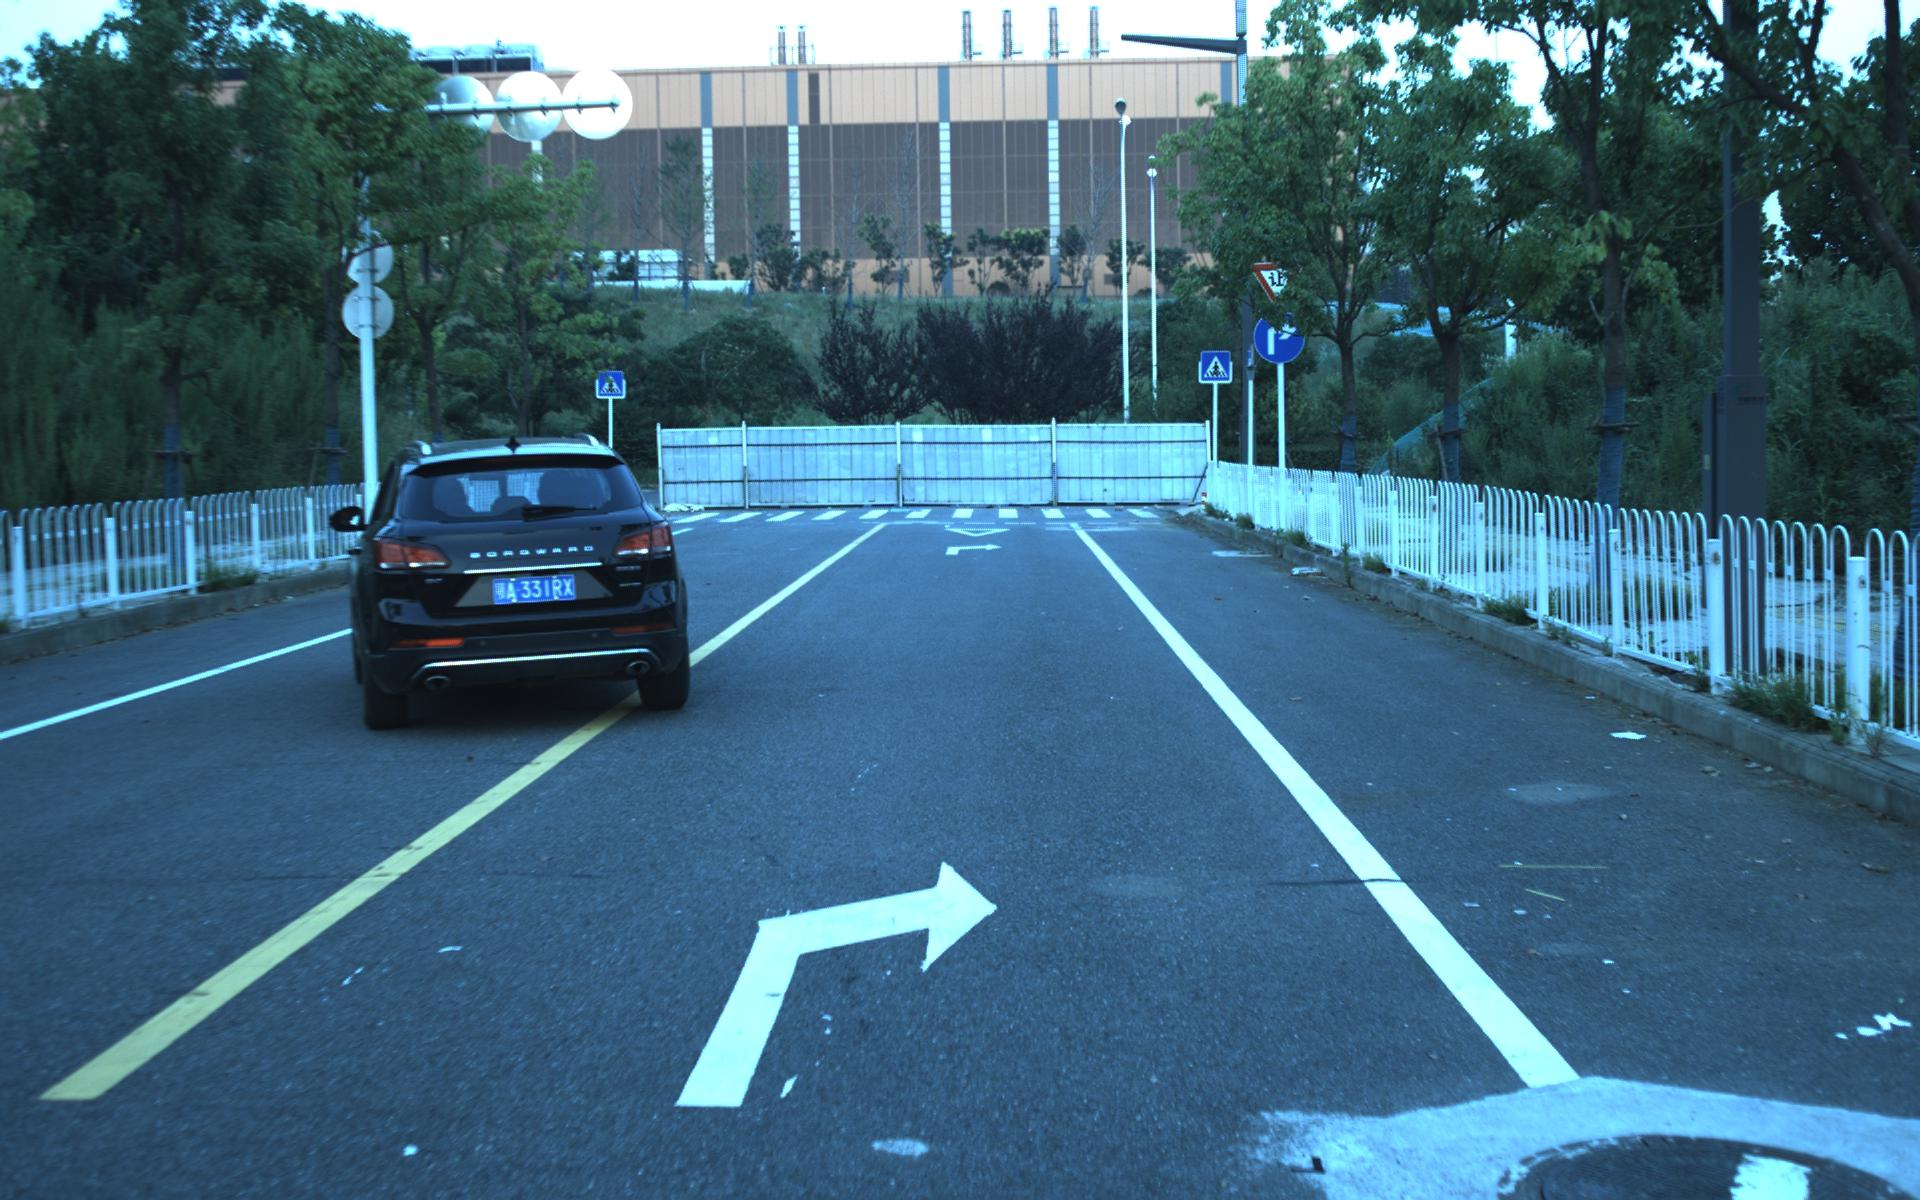Car: (343, 430, 699, 731)
